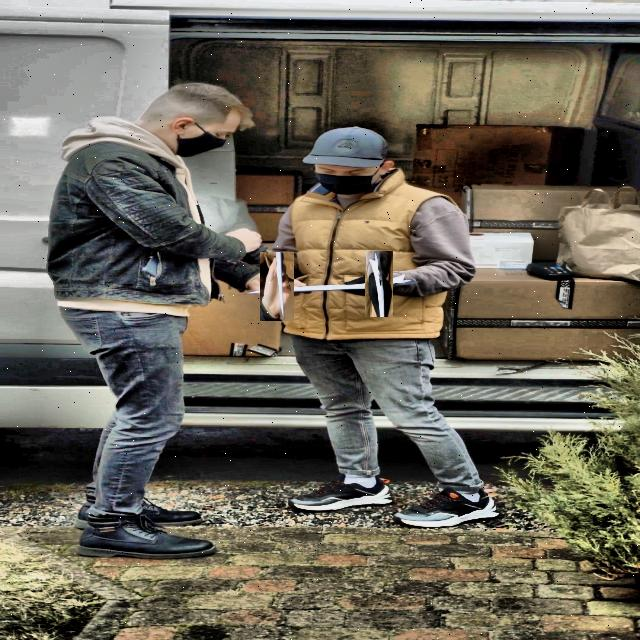gloved: (251, 260, 303, 312), (356, 260, 404, 308), (227, 226, 270, 250), (244, 247, 288, 266)
